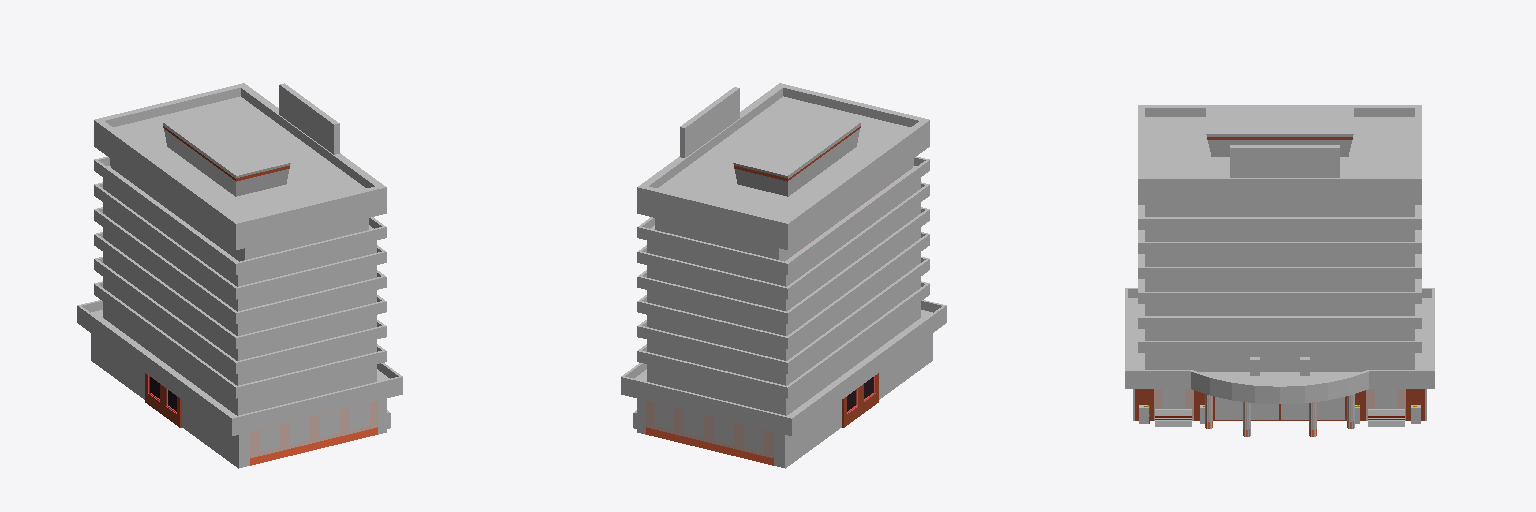
The picture shows the model from 3 angles: view 1: azimuth 30°, elevation 25°; view 2: azimuth 150°, elevation 25°; view 3: azimuth 270°, elevation 25°; orthographic projection.
Parts seen in each view (by area): view 1: Collider_Cube.001, PublicBuilding_Building15_Cylinder.035; view 2: Collider_Cube.001, PublicBuilding_Building15_Cylinder.035; view 3: Collider_Cube.001, PublicBuilding_Building15_Cylinder.035.
Boxes of the visible parts, box(x1,y1,x2,y2) form: Collider_Cube.001: box(77, 83, 402, 468); PublicBuilding_Building15_Cylinder.035: box(111, 126, 377, 465); Collider_Cube.001: box(621, 83, 946, 468); PublicBuilding_Building15_Cylinder.035: box(646, 126, 912, 465); Collider_Cube.001: box(1125, 105, 1434, 436); PublicBuilding_Building15_Cylinder.035: box(1135, 137, 1424, 436).
Size of the model in its own units: 7.51 by 9.67 by 9.92.
Materials: 2 (1 with a texture image).